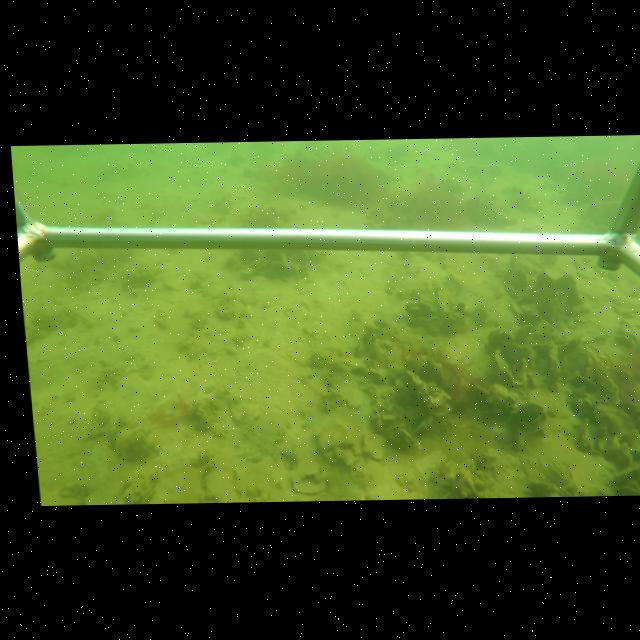Oyster-Indeterminate: (383, 425, 416, 455)
